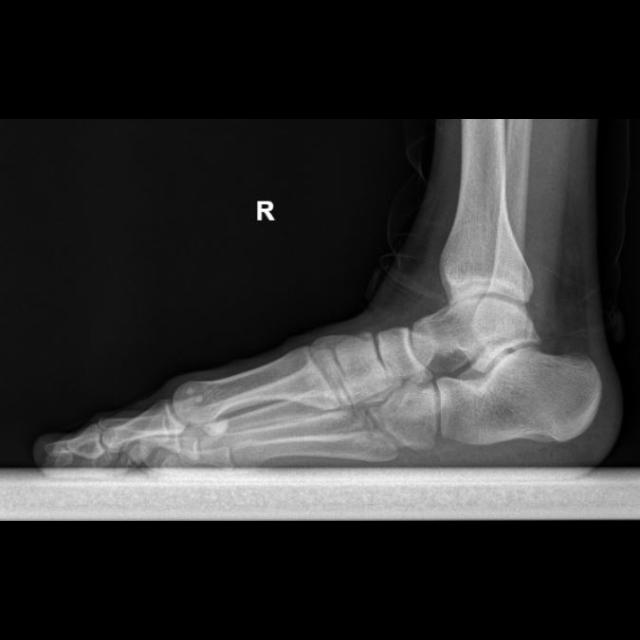a: (438, 347, 602, 445)
b: (377, 328, 426, 379)
c: (173, 347, 341, 424)
